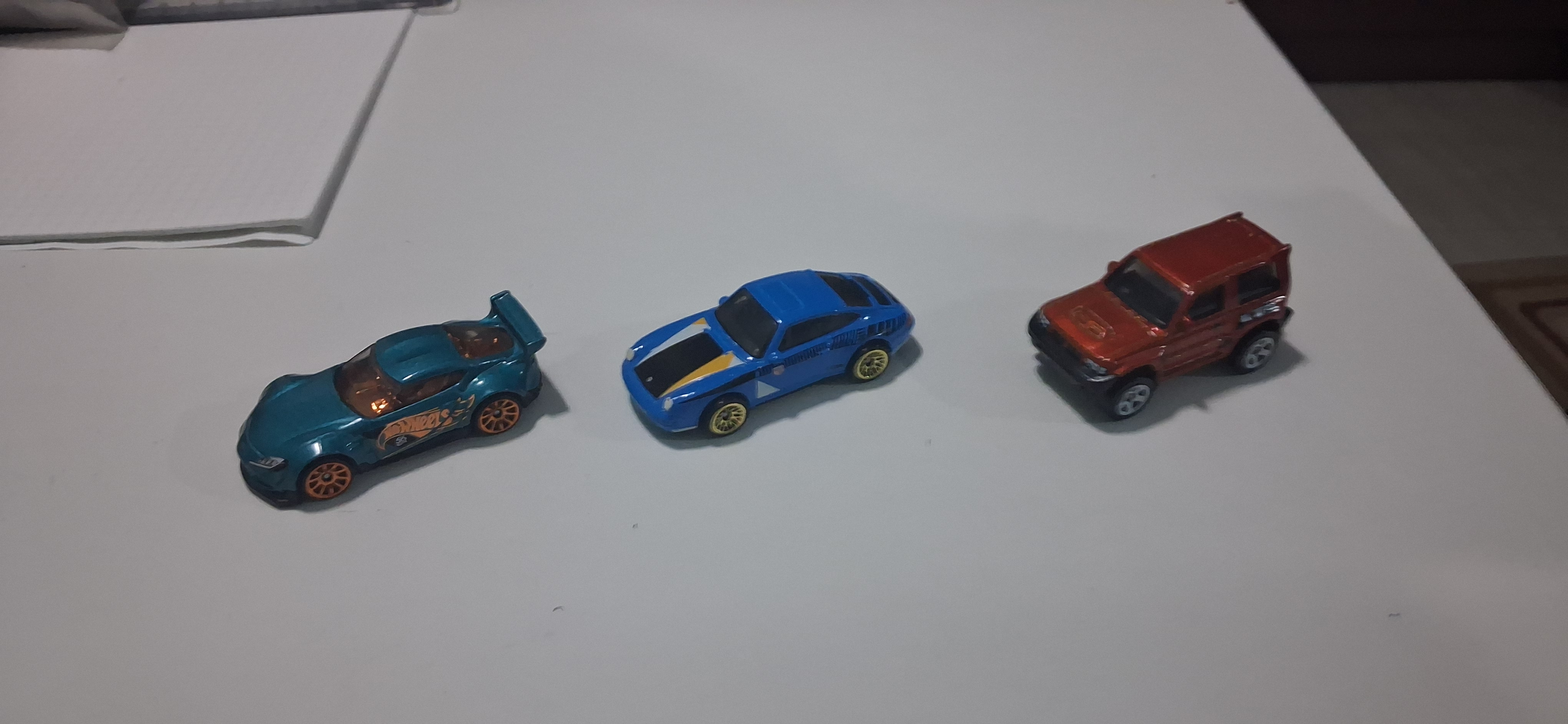Mitsubishi_Pajero_Evolution: (1006, 200, 1356, 454)
Porsche_Carrera: (615, 214, 947, 476)
Toyota_GR_Supra: (217, 275, 561, 543)
